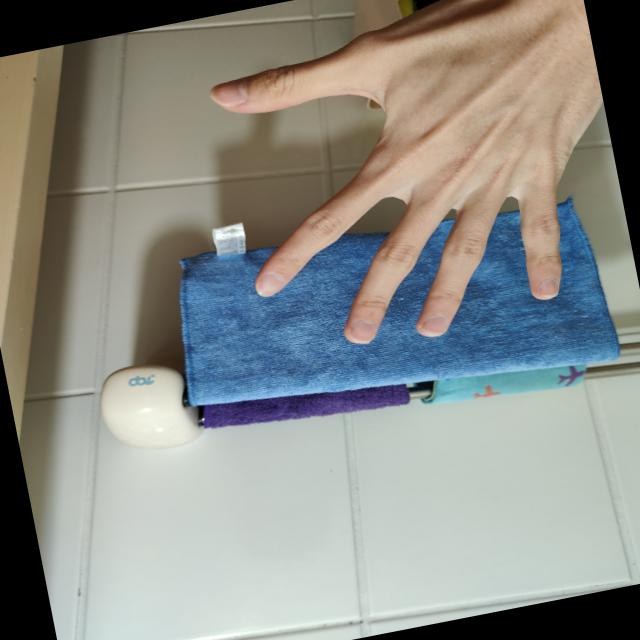Nail: (209, 76, 248, 106), (255, 272, 282, 295), (420, 315, 448, 335), (347, 323, 375, 343), (538, 279, 557, 297)
